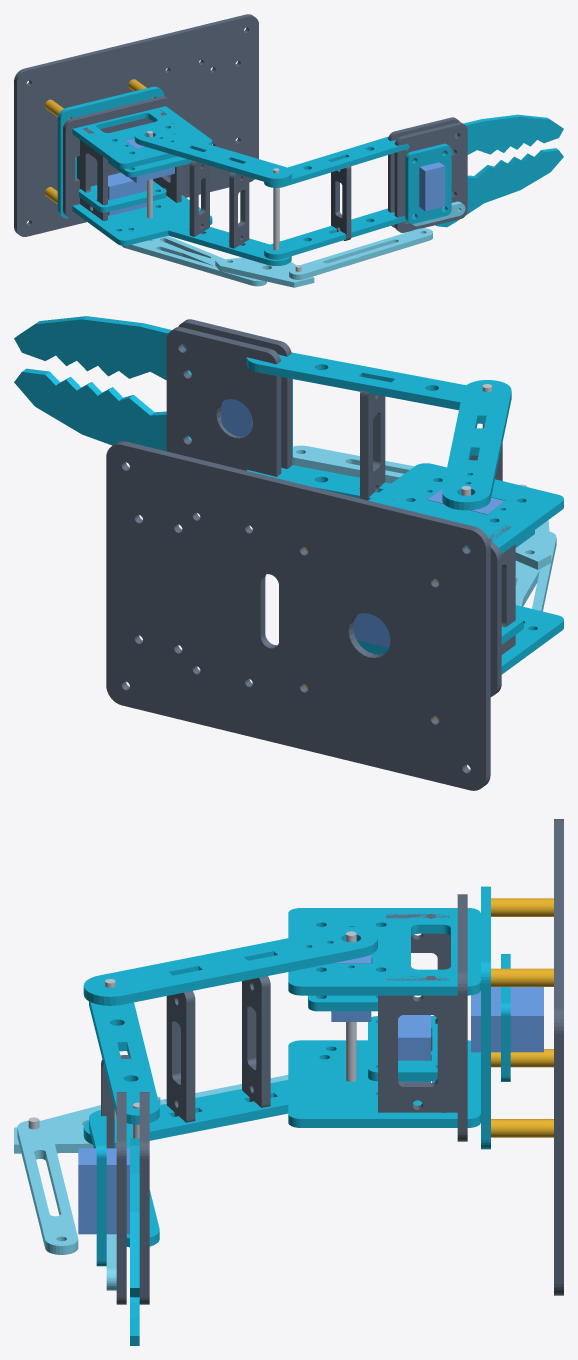
File: Robotic_Arm_4DOF_Assembly.glb
3 views of the same model, one above another, from view 1: azimuth 30°, elevation 25°; view 2: azimuth 150°, elevation 25°; view 3: azimuth 270°, elevation 25° (orthographic). The views are drawn at different scales.
Parts seen in each view (by area): view 1: Asm_01_Main_Base_Plate, Asm_05_Turntable_Left_Wall, Asm_16_Gripper_Top_Mount, Asm_04_Turntable_Bottom, Asm_08_Upper_Main_Arm_L, Asm_19_Gripper_Claw_Right, Asm_06_Turntable_Right_Wall, Asm_18_Gripper_Claw_Left, Asm_03_Servo_Collar_Gripper, Asm_13_Forearm_Main_Link_R, Asm_14_Forearm_Parallel_Link, Asm_13_Forearm_Main_Link_L (+18 smaller); view 2: Asm_01_Main_Base_Plate, Asm_17_Gripper_Bottom_Plate, Asm_18_Gripper_Claw_Left, Asm_19_Gripper_Claw_Right, Asm_05_Turntable_Left_Wall, Asm_08_Upper_Main_Arm_L, Asm_13_Forearm_Main_Link_L, Asm_15_Forearm_Cross_Spacer_3, Asm_16_Gripper_Top_Mount, Asm_06_Turntable_Right_Wall, Asm_14_Forearm_Parallel_Link, Asm_04_Turntable_Bottom (+7 smaller); view 3: Asm_05_Turntable_Left_Wall, Asm_08_Upper_Main_Arm_L, Asm_06_Turntable_Right_Wall, Asm_07_Turntable_Brace_Front, Asm_09_Upper_Main_Arm_R, Asm_13_Forearm_Main_Link_L, Asm_01_Main_Base_Plate, Asm_14_Forearm_Parallel_Link, Asm_15_Upper_Cross_Spacer_2, Asm_15_Upper_Cross_Spacer_1, Servo_1_Base_Yaw, Servo_4_Gripper (+20 smaller).
Part boxes in pixels (bbox=[...]): Asm_01_Main_Base_Plate: bbox=[14, 14, 258, 236]; Asm_05_Turntable_Left_Wall: bbox=[72, 106, 212, 168]; Asm_16_Gripper_Top_Mount: bbox=[394, 122, 467, 232]; Asm_04_Turntable_Bottom: bbox=[63, 96, 172, 218]; Asm_08_Upper_Main_Arm_L: bbox=[134, 128, 291, 183]; Asm_19_Gripper_Claw_Right: bbox=[436, 148, 563, 227]; Asm_06_Turntable_Right_Wall: bbox=[72, 195, 212, 245]; Asm_18_Gripper_Claw_Left: bbox=[451, 114, 563, 154]; Asm_03_Servo_Collar_Gripper: bbox=[405, 143, 451, 223]; Asm_13_Forearm_Main_Link_R: bbox=[264, 208, 406, 259]; Asm_14_Forearm_Parallel_Link: bbox=[289, 228, 432, 279]; Asm_13_Forearm_Main_Link_L: bbox=[264, 136, 409, 187]; Asm_01_Main_Base_Plate: bbox=[106, 441, 490, 790]; Asm_17_Gripper_Bottom_Plate: bbox=[166, 327, 281, 476]; Asm_18_Gripper_Claw_Left: bbox=[14, 316, 191, 380]; Asm_19_Gripper_Claw_Right: bbox=[14, 368, 191, 451]; Asm_05_Turntable_Left_Wall: bbox=[368, 463, 563, 553]; Asm_08_Upper_Main_Arm_L: bbox=[442, 380, 511, 510]; Asm_13_Forearm_Main_Link_L: bbox=[246, 352, 465, 410]; Asm_15_Forearm_Cross_Spacer_3: bbox=[360, 378, 385, 500]; Asm_16_Gripper_Top_Mount: bbox=[178, 319, 291, 468]; Asm_06_Turntable_Right_Wall: bbox=[501, 605, 563, 674]; Asm_14_Forearm_Parallel_Link: bbox=[292, 445, 414, 483]; Asm_04_Turntable_Bottom: bbox=[489, 541, 501, 696]; Asm_05_Turntable_Left_Wall: bbox=[288, 908, 480, 995]; Asm_08_Upper_Main_Arm_L: bbox=[83, 927, 377, 1005]; Asm_06_Turntable_Right_Wall: bbox=[288, 1040, 480, 1127]; Asm_07_Turntable_Brace_Front: bbox=[378, 976, 457, 1112]; Asm_09_Upper_Main_Arm_R: bbox=[83, 1069, 369, 1144]; Asm_13_Forearm_Main_Link_L: bbox=[89, 1001, 159, 1124]; Asm_01_Main_Base_Plate: bbox=[554, 819, 563, 1295]; Asm_14_Forearm_Parallel_Link: bbox=[17, 1120, 78, 1254]; Asm_15_Upper_Cross_Spacer_2: bbox=[166, 991, 195, 1122]; Asm_15_Upper_Cross_Spacer_1: bbox=[242, 976, 270, 1107]; Servo_1_Base_Yaw: bbox=[471, 987, 543, 1052]; Servo_4_Gripper: bbox=[78, 1148, 129, 1234].
Size of the model in its own units: 254 by 95 by 166.
